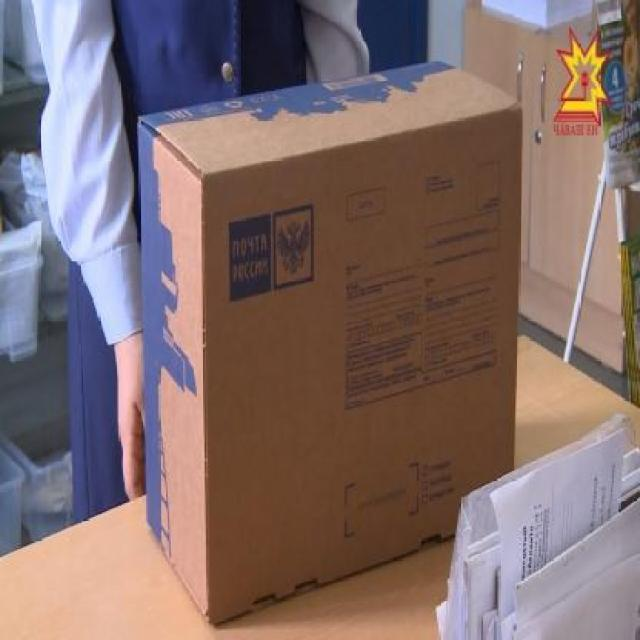box: (136, 49, 526, 626)
